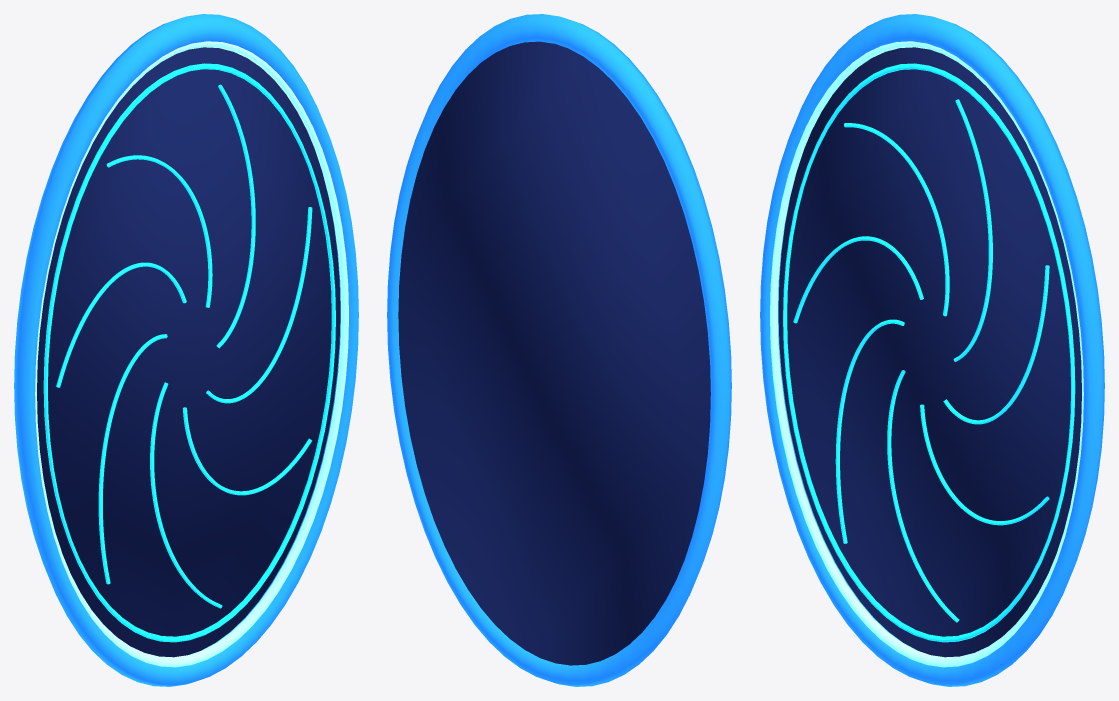
File: portal.glb
The picture shows the model from 3 angles, left to right: view 1: azimuth 30°, elevation 25°; view 2: azimuth 150°, elevation 25°; view 3: azimuth 330°, elevation 25°; orthographic projection.
Parts seen in each view (by area): view 1: Portal dark surface, Portal outer aura, Portal bright boundary, Portal inner boundary, Portal spiral arc, Portal spiral arc.003, Portal spiral arc.004, Portal spiral arc.006, Portal spiral arc.002, Portal spiral arc.001, Portal spiral arc.005; view 2: Portal dark surface, Portal outer aura; view 3: Portal dark surface, Portal outer aura, Portal bright boundary, Portal inner boundary, Portal spiral arc, Portal spiral arc.004, Portal spiral arc.003, Portal spiral arc.001, Portal spiral arc.006, Portal spiral arc.005, Portal spiral arc.002.
Part boxes in pixels (left/top/right/bottom): Portal dark surface: left=37, top=47, right=340, bottom=657; Portal outer aura: left=14, top=14, right=358, bottom=686; Portal bright boundary: left=35, top=41, right=348, bottom=667; Portal inner boundary: left=43, top=63, right=335, bottom=642; Portal spiral arc: left=216, top=84, right=255, bottom=348; Portal spiral arc.003: left=98, top=334, right=167, bottom=584; Portal spiral arc.004: left=150, top=382, right=222, bottom=608; Portal spiral arc.006: left=206, top=207, right=312, bottom=403; Portal spiral arc.002: left=56, top=262, right=186, bottom=387; Portal spiral arc.001: left=106, top=155, right=212, bottom=307; Portal spiral arc.005: left=183, top=407, right=311, bottom=495; Portal dark surface: left=398, top=41, right=710, bottom=665; Portal outer aura: left=387, top=14, right=731, bottom=686; Portal dark surface: left=778, top=47, right=1081, bottom=657; Portal outer aura: left=760, top=14, right=1104, bottom=686; Portal bright boundary: left=770, top=41, right=1083, bottom=667; Portal inner boundary: left=783, top=63, right=1075, bottom=642; Portal spiral arc: left=953, top=99, right=992, bottom=361; Portal spiral arc.004: left=887, top=370, right=959, bottom=622; Portal spiral arc.003: left=835, top=319, right=904, bottom=543; Portal spiral arc.001: left=844, top=123, right=949, bottom=316; Portal spiral arc.006: left=943, top=265, right=1049, bottom=424; Portal spiral arc.005: left=920, top=404, right=1049, bottom=525; Portal spiral arc.002: left=793, top=236, right=923, bottom=323.
Size of the model in its own units: 0.00111 by 0.00209 by 7.79e-05.
